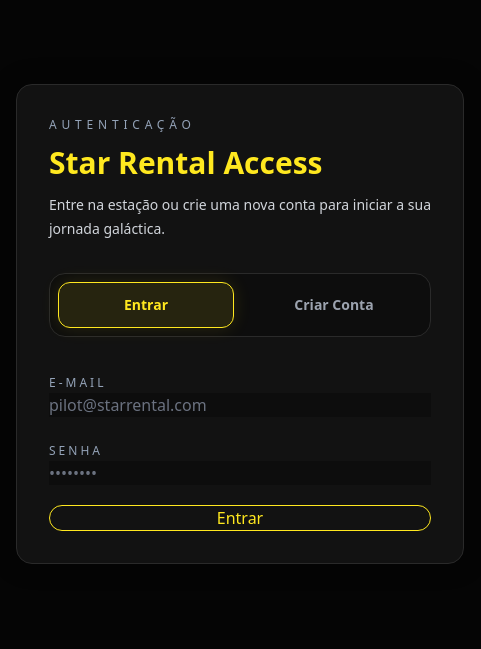
Login › Render › should show name and CPF fields after switching to register
Click the button "Criar Conta": (334, 305) [246,282,422,328]
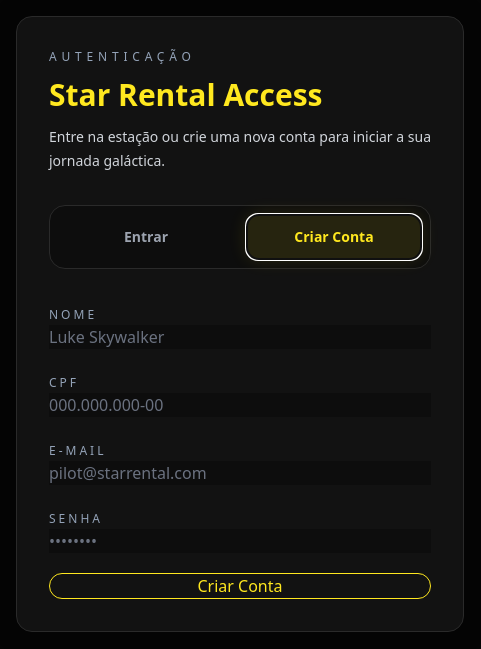
Expected: the field labelled "Nome" is shown, [49,325,431,349]
Expected: the field labelled "CPF" is shown, [49,393,431,417]
